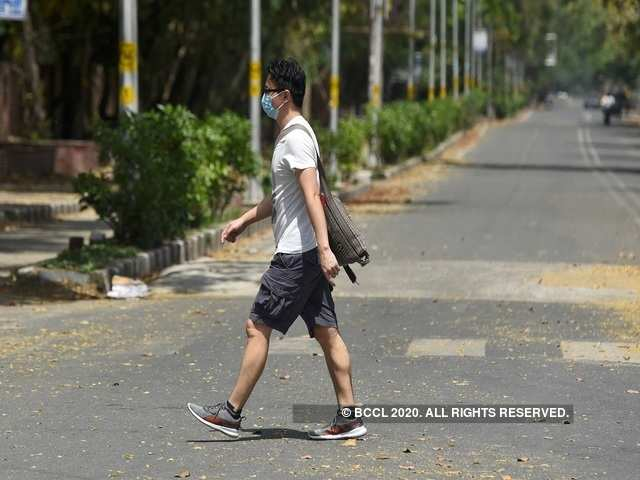with_mask: (252, 62, 309, 124)
